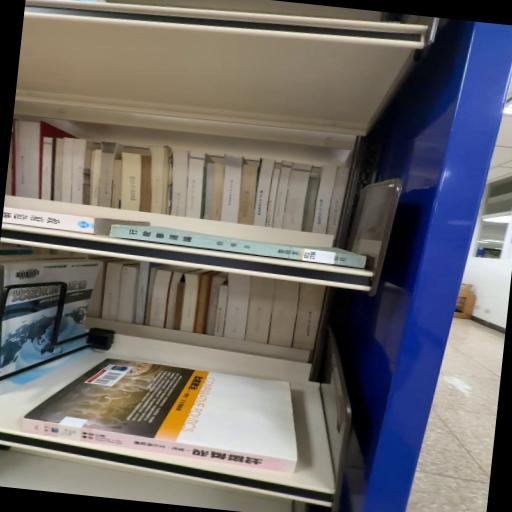flat: (23, 360, 298, 473), (111, 225, 367, 269), (3, 208, 150, 236)
